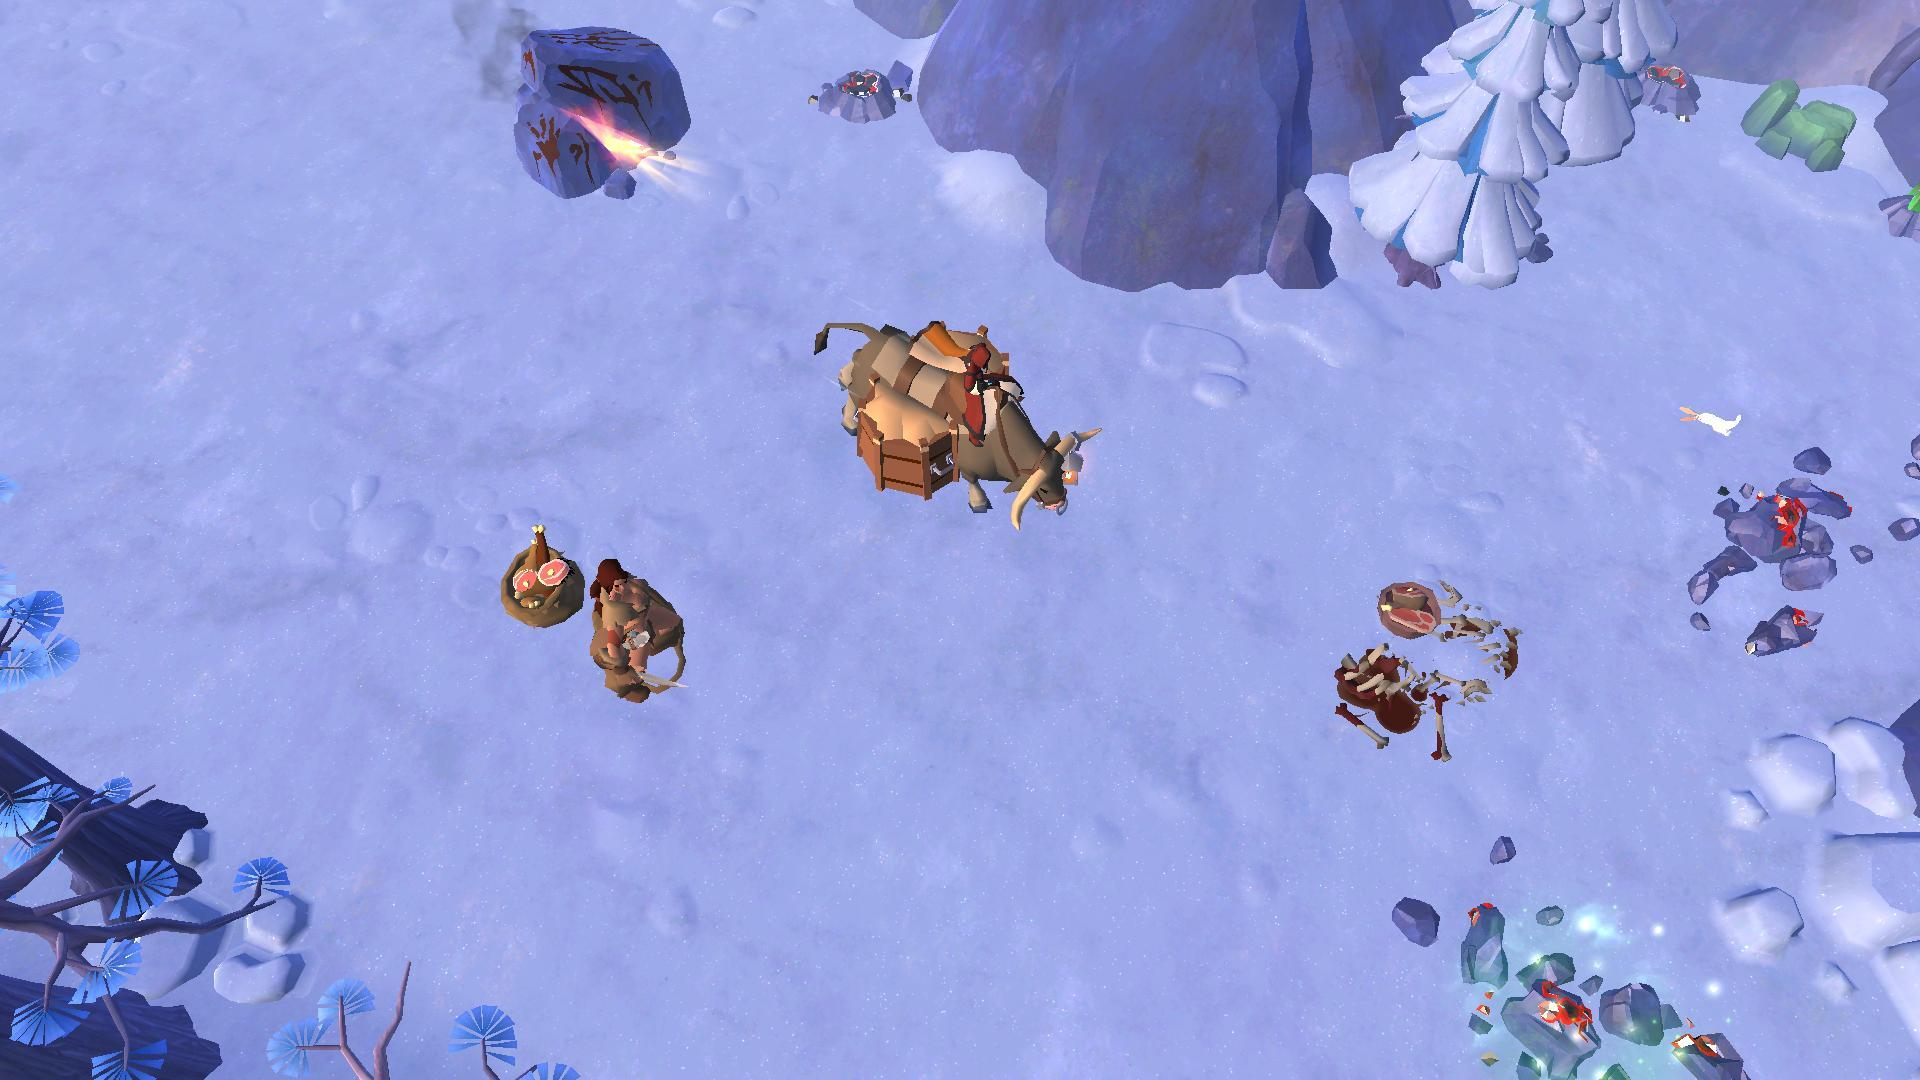enemy_factionKeeper: (585, 554, 662, 709)
rock_t3: (1737, 70, 1861, 178)
